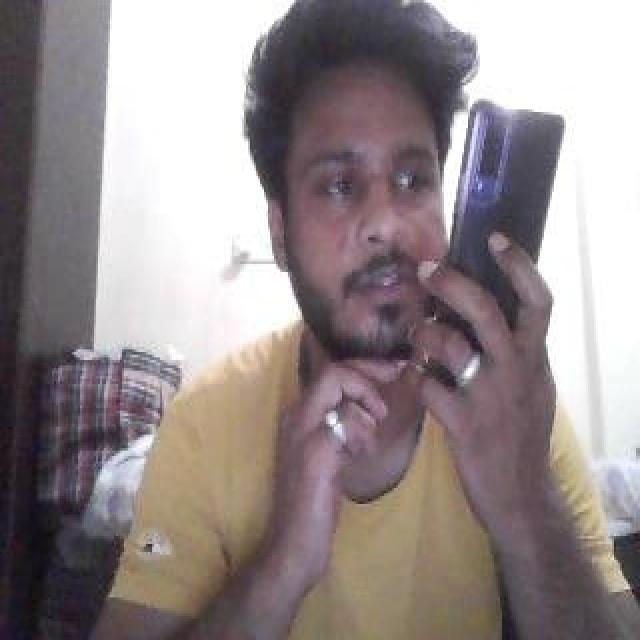phone: (434, 101, 566, 363)
